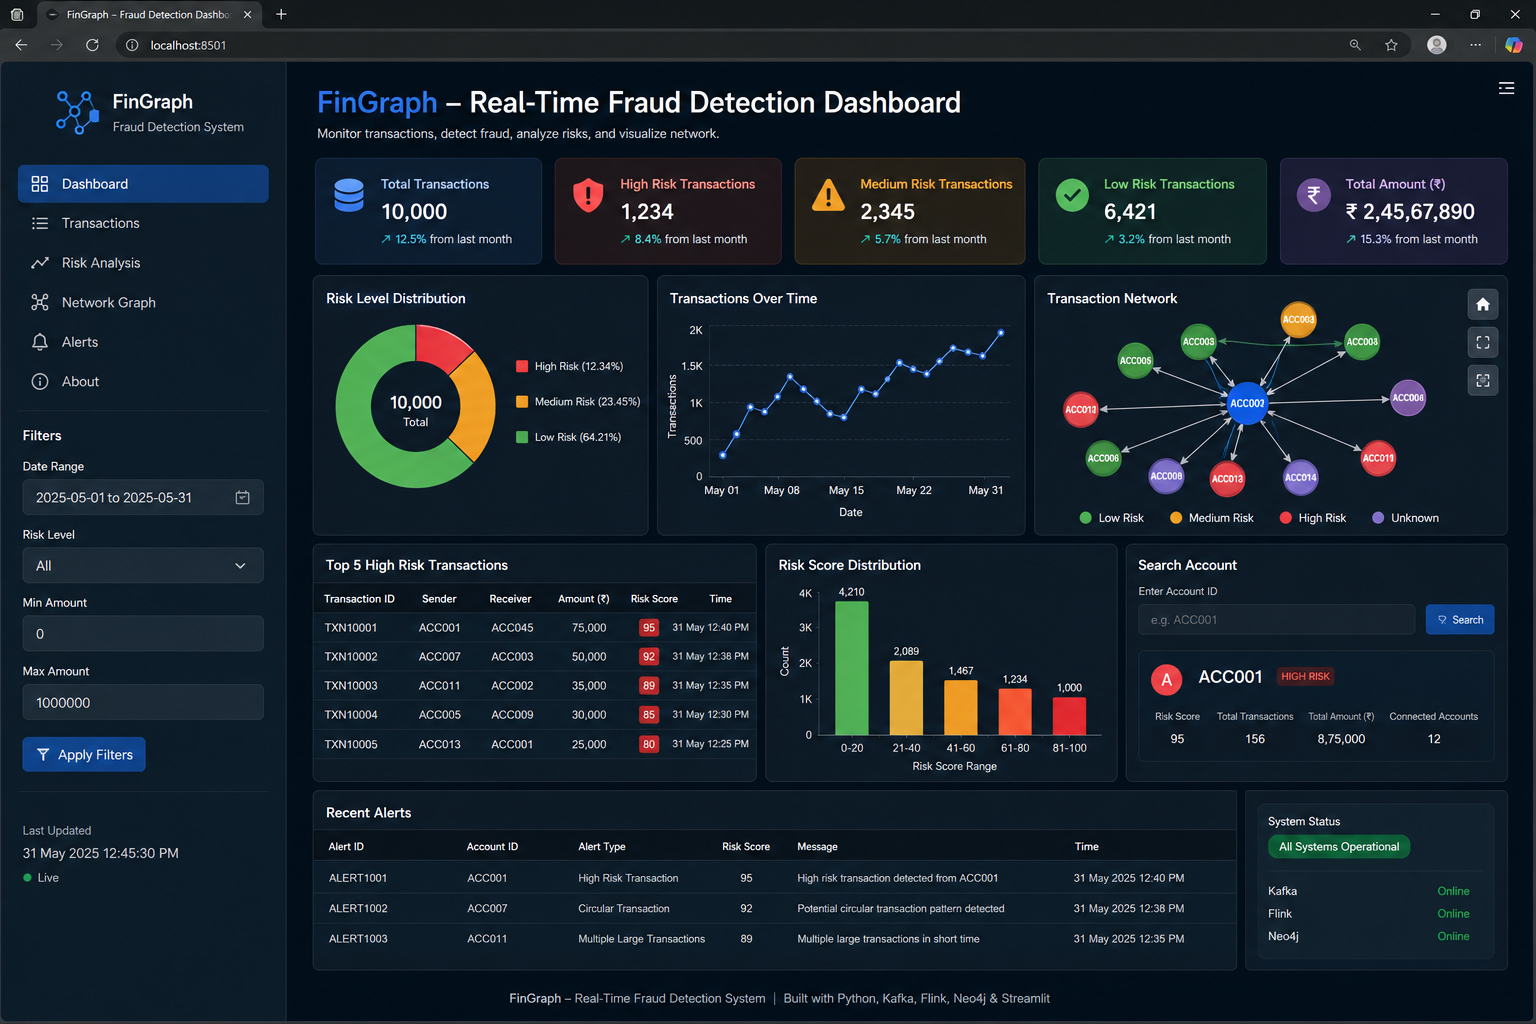

This screenshot's page, from the dashboard's own definition file:
{"tool":"powerbi","page":{"name":"Page 2","canvas":[1280,720],"ordinal":1},"visuals":[{"type":"shape","box":[27.4,0,1224.9,721.4],"z":0},{"type":"cardVisual","title":"Total transaction","fields":{"Data":["transaction  data.total transaction"]},"box":[275.6,20.2,180.3,106.8],"z":1000},{"type":"cardVisual","title":"Total Amount","fields":{"Data":["transaction  data.total amount"]},"box":[473.2,20.2,180.3,106.8],"z":2000},{"type":"cardVisual","title":"High Risk transaction","fields":{"Data":["transaction  data.high risk transaction"]},"box":[665.1,20.2,180.3,106.8],"z":3000},{"type":"cardVisual","title":"Low Risk transaction","fields":{"Data":["transaction  data.low risk transaction"]},"box":[1057.5,20.2,180.3,106.8],"z":4000},{"type":"cardVisual","title":"Medium Risk Transaction","fields":{"Data":["transaction  data.medium risk transaction"]},"box":[852.7,20.2,202,106.8],"z":5000},{"type":"donutChart","title":"Risk Level Distribution","fields":{"Y":["transaction  data.high risk transaction","transaction  data.low risk transaction","transaction  data.medium risk transaction"]},"box":[275.6,139.9,320.3,203.4],"z":6000},{"type":"lineChart","title":"Transaction Over Time","fields":{"Y":["transaction  data.total transaction"],"Category":["transaction  data.timestamp.Variation.Date Hierarchy.Year","transaction  data.timestamp.Variation.Date Hierarchy.Quarter","transaction  data.timestamp.Variation.Date Hierarchy.Month","transaction  data.timestamp.Variation.Date Hierarchy.Day"]},"box":[607.4,141.4,313.1,203.4],"z":7000},{"type":"lineChart","title":"Risk score Distribution","fields":{"Category":["transaction  data.risk"],"Y":["transaction  data.total transaction"]},"box":[932,141.4,305.9,203.4],"z":8000},{"type":"columnChart","title":"High-Risk Transaction","fields":{"Category":["transaction  data.sender"],"Y":["transaction  data.total amount"]},"box":[848.3,360.7,389.5,178.9],"z":9000},{"type":"slicer","title":"search Account","fields":{"Values":["transaction  data.sender"]},"box":[47.6,580,210.6,101],"z":10000},{"type":"tableEx","title":"Top 5 High  Risk Transaction","fields":{"Values":["transaction  data.transaction_id","transaction  data.sender","transaction  data.receiver","Sum(transaction  data.amount)","transaction  data.risk","transaction  data.timestamp.Variation.Date Hierarchy.Year","transaction  data.timestamp.Variation.Date Hierarchy.Quarter","transaction  data.timestamp.Variation.Date Hierarchy.Month","transaction  data.timestamp.Variation.Date Hierarchy.Day"]},"box":[275.6,360.7,569.9,178.9],"z":11000},{"type":"tableEx","title":"Recent Alert","fields":{"Values":["transaction  data.Alert Id","transaction  data.sender","transaction  data.alert type","transaction  data.risk","transaction  data.Alert message","transaction  data.timestamp.Variation.Date Hierarchy.Year","transaction  data.timestamp.Variation.Date Hierarchy.Quarter","transaction  data.timestamp.Variation.Date Hierarchy.Month","transaction  data.timestamp.Variation.Date Hierarchy.Day"]},"box":[275.6,539.6,782,180.3],"z":12000},{"type":"shape","box":[47.6,20.2,223.6,300.1],"z":13000},{"type":"textbox","box":[85.1,340.5,83.7,41.8],"z":14000},{"type":"slicer","fields":{"Values":["transaction  data.timestamp.Variation.Date Hierarchy.Year","transaction  data.timestamp.Variation.Date Hierarchy.Quarter","transaction  data.timestamp.Variation.Date Hierarchy.Month","transaction  data.timestamp.Variation.Date Hierarchy.Day"]},"box":[40.4,382.3,210.6,70.7],"z":15000},{"type":"slicer","fields":{"Values":["transaction  data.risk"]},"box":[40.4,450.1,210.6,30.3],"z":16000},{"type":"slicer","fields":{"Values":["transaction  data.amount"]},"box":[40.4,493.4,210.6,30.3],"z":17000},{"type":"actionButton","title":"Apply Filter","box":[85.1,523.7,99.6,40.4],"z":18000},{"type":"textbox","box":[73.6,31.7,155.8,53.4],"z":19000},{"type":"textbox","box":[73.6,85.1,165.9,67.8],"z":20000},{"type":"image","box":[77.9,85.1,147.2,253.9],"z":21000},{"type":"image","box":[1043.1,543.9,209.2,176],"z":22000}]}

Visuals, with their boxes on the page's 1280x720 design canvas (x1, y1, x2, y2). These are canvas units, not pixel positions in the 1536x1024 screenshot, which may show the page scaled, cropped or inside an application window:
shape: l=27, t=0, r=1252, b=721
"Total transaction" cardVisual: l=276, t=20, r=456, b=127
"Total Amount" cardVisual: l=473, t=20, r=654, b=127
"High Risk transaction" cardVisual: l=665, t=20, r=845, b=127
"Low Risk transaction" cardVisual: l=1058, t=20, r=1238, b=127
"Medium Risk Transaction" cardVisual: l=853, t=20, r=1055, b=127
"Risk Level Distribution" donutChart: l=276, t=140, r=596, b=343
"Transaction Over Time" lineChart: l=607, t=141, r=920, b=345
"Risk score Distribution" lineChart: l=932, t=141, r=1238, b=345
"High-Risk Transaction" columnChart: l=848, t=361, r=1238, b=540
"search Account" slicer: l=48, t=580, r=258, b=681
"Top 5 High  Risk Transaction" tableEx: l=276, t=361, r=846, b=540
"Recent Alert" tableEx: l=276, t=540, r=1058, b=720
shape: l=48, t=20, r=271, b=320
textbox: l=85, t=340, r=169, b=382
slicer - transaction  data.timestamp.Variation.Date Hierarchy.Year x transaction  data.timestamp.Variation.Date Hierarchy.Quarter: l=40, t=382, r=251, b=453
slicer - transaction  data.risk: l=40, t=450, r=251, b=480
slicer - transaction  data.amount: l=40, t=493, r=251, b=524
"Apply Filter" actionButton: l=85, t=524, r=185, b=564
textbox: l=74, t=32, r=229, b=85
textbox: l=74, t=85, r=240, b=153
image: l=78, t=85, r=225, b=339
image: l=1043, t=544, r=1252, b=720
